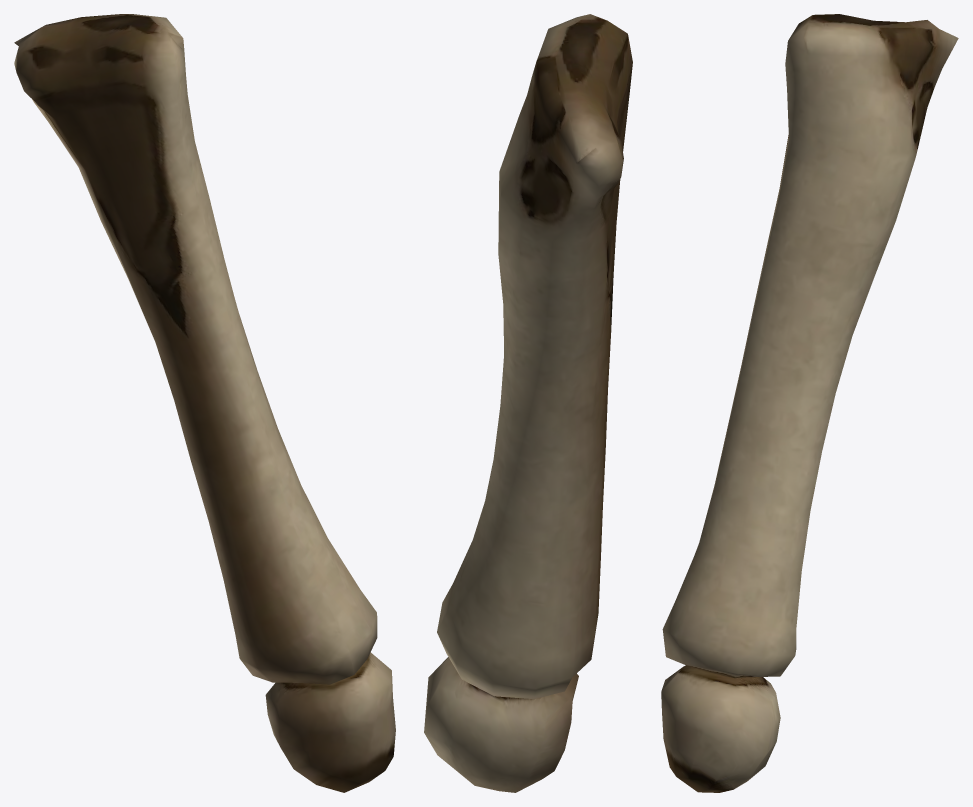
The model's file is Metatarsal_II.glb.
3 views of the same model, side by side, from view 1: azimuth 30°, elevation 25°; view 2: azimuth 150°, elevation 25°; view 3: azimuth 270°, elevation 25° (orthographic). The views are drawn at different scales.
Parts seen in each view (by area): view 1: Metatarsal_II_Right1:Group65477; view 2: Metatarsal_II_Right1:Group65477; view 3: Metatarsal_II_Right1:Group65477.
Boxes of the visible parts, bbox=[...] form: Metatarsal_II_Right1:Group65477: bbox=[14, 14, 395, 792]; Metatarsal_II_Right1:Group65477: bbox=[424, 14, 632, 792]; Metatarsal_II_Right1:Group65477: bbox=[661, 14, 958, 792].
Bounding box in the file's own units: 19.14 × 51 × 19.43.
1 material, 1 textured.
